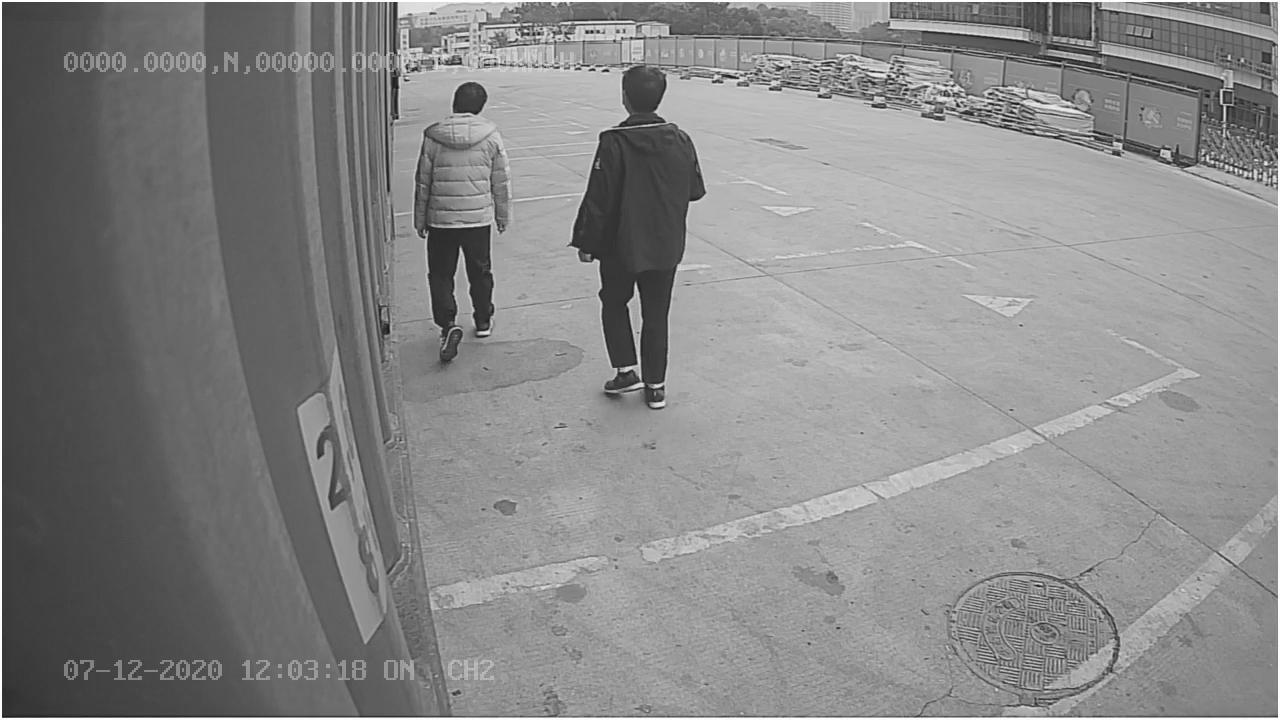person: (574, 62, 706, 409), (414, 82, 513, 363)
